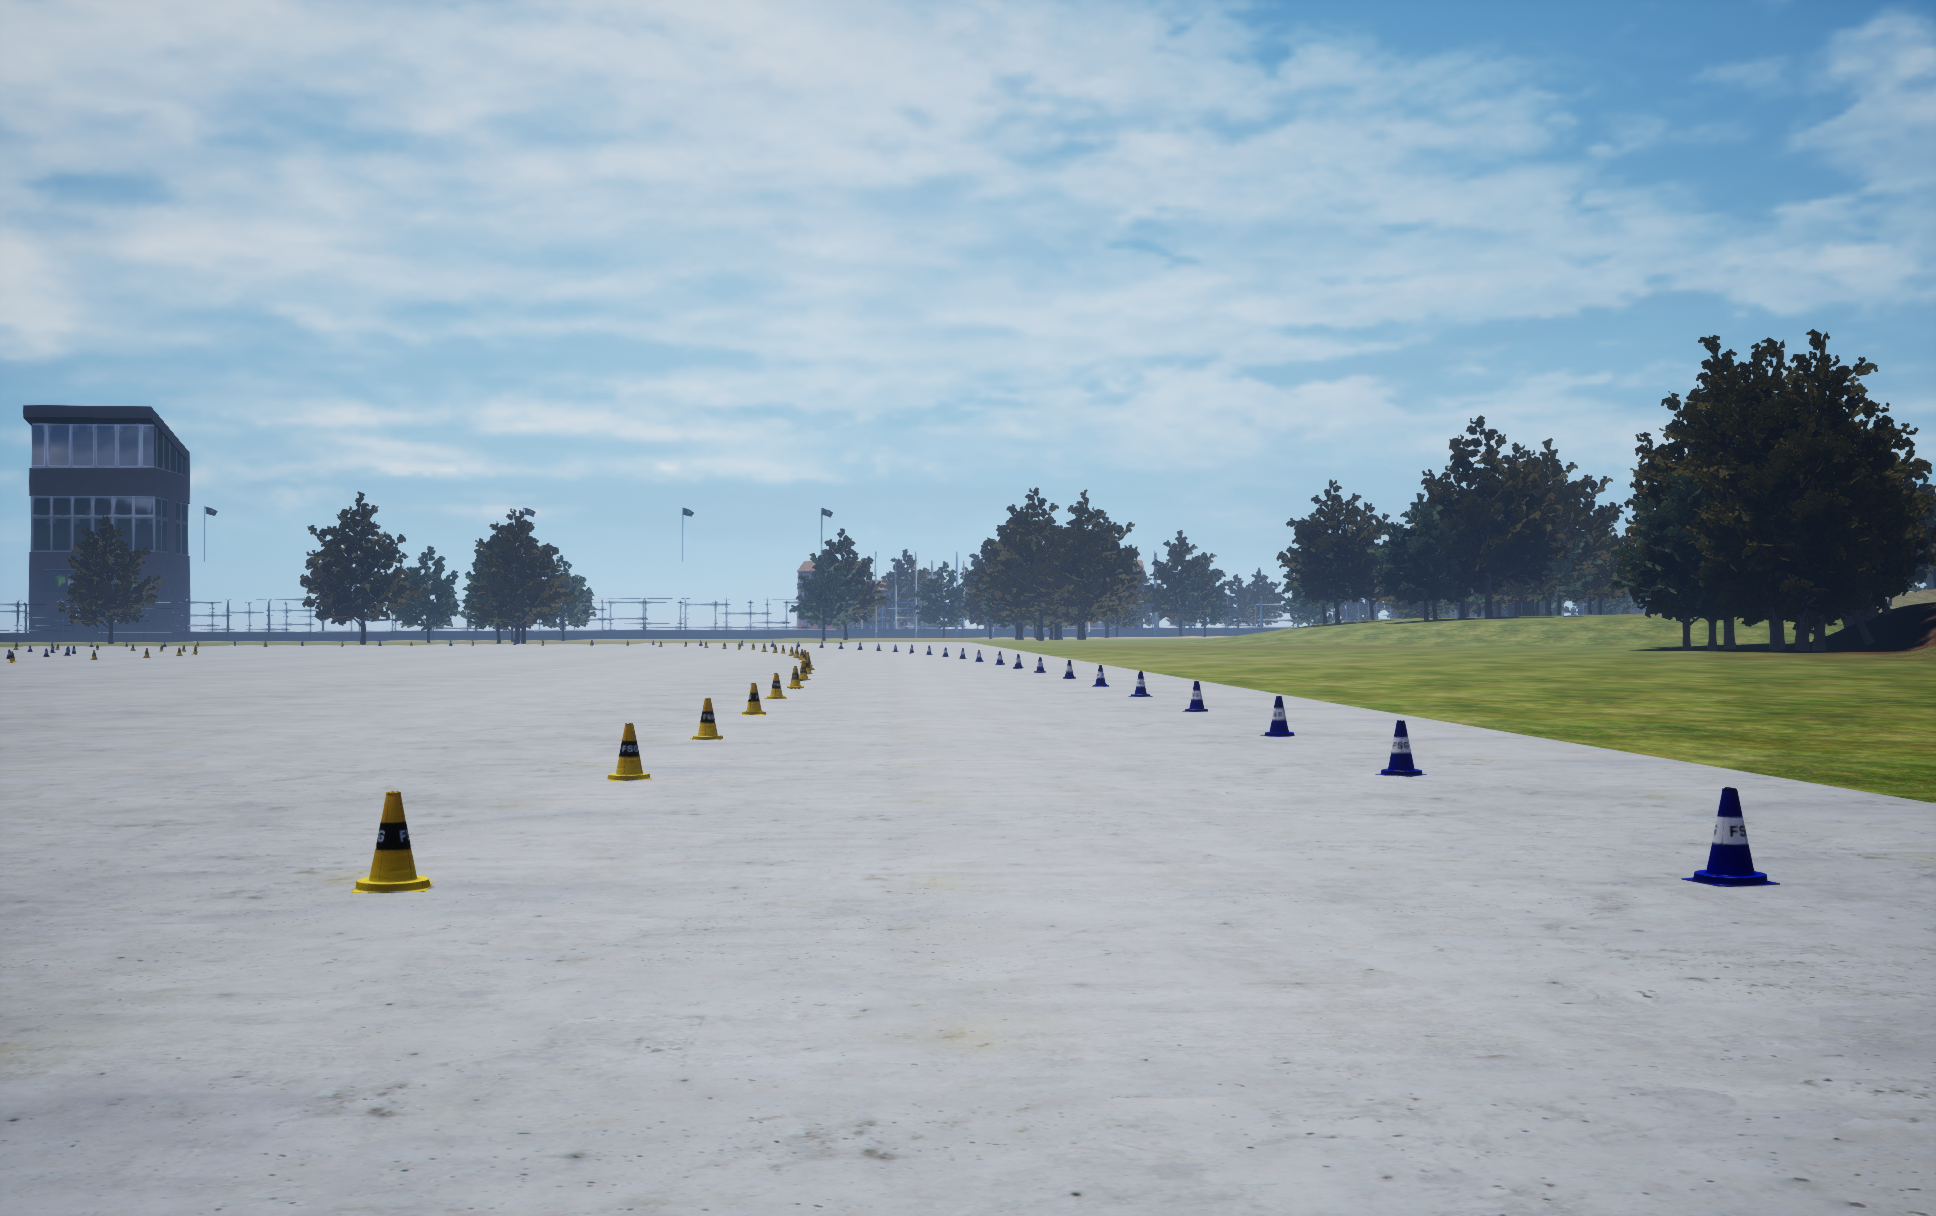blue: (352, 792, 431, 892), (607, 723, 651, 780), (691, 698, 726, 740), (742, 684, 765, 714), (763, 672, 786, 698), (787, 665, 803, 688), (798, 661, 810, 679)
yellow: (1681, 787, 1779, 885), (1376, 720, 1426, 776), (1259, 696, 1294, 735), (1182, 681, 1208, 712), (1128, 671, 1152, 696), (1093, 665, 1108, 686), (1063, 660, 1074, 678)
